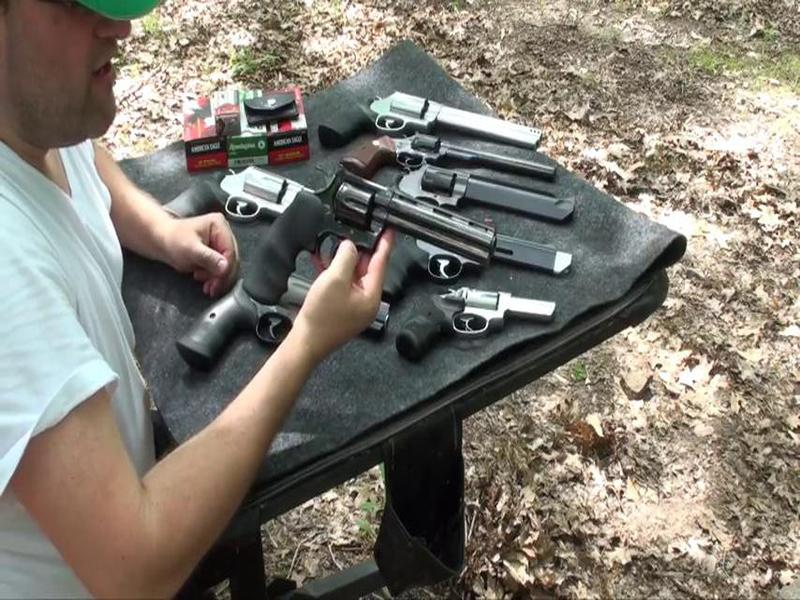Revolver: (229, 166, 504, 336)
